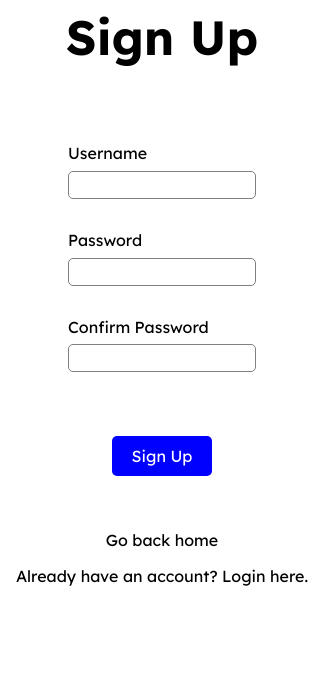
Sign up component password validation tests › should display an error when passwords do not match
This screenshot has width=325, height=678.
Type "password123" into the password field labelled "Password" at (162, 272), box [68,258,256,286]
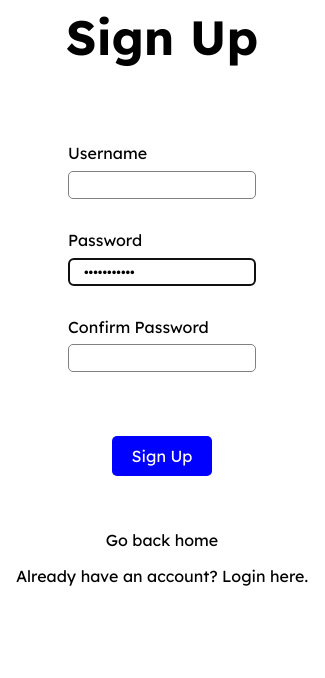
Type "NotMatchingPassword" into the password field labelled "Confirm Password" at (162, 358), box [68,344,256,372]
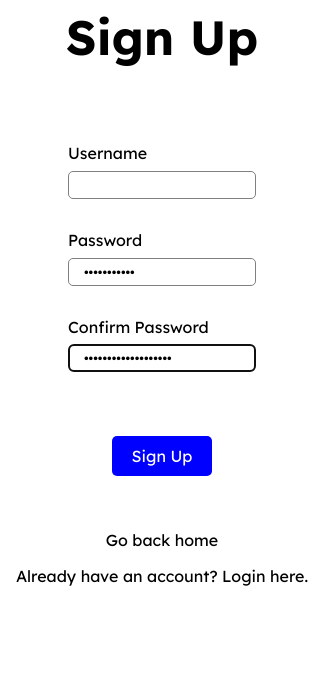
Click the button "Sign Up" at (162, 456), box [112,436,212,476]
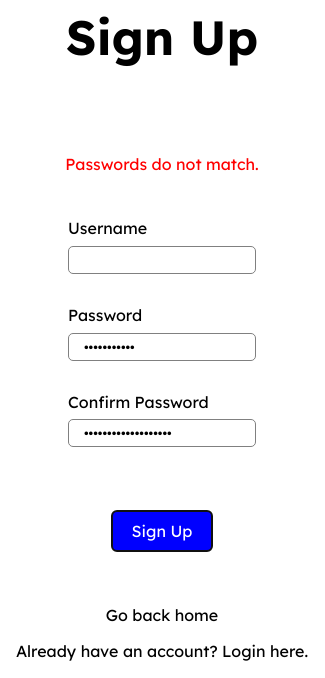
Now the text "Passwords do not match." is shown, box [65,154,259,174]
